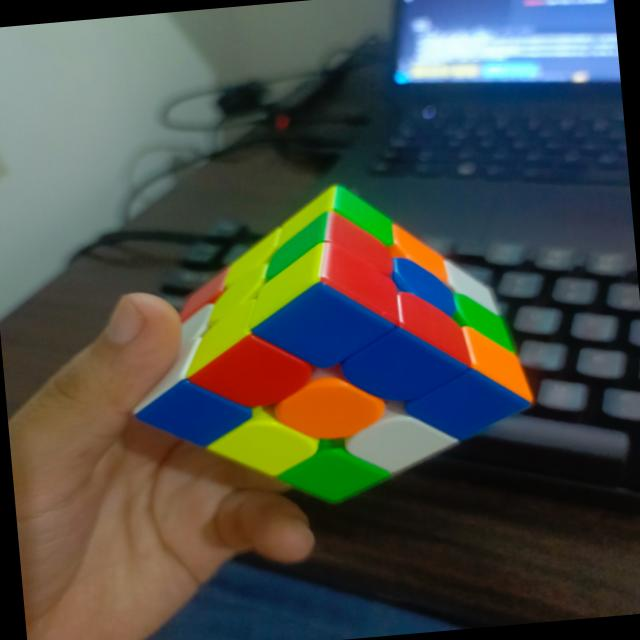rubik: (112, 166, 544, 522)
